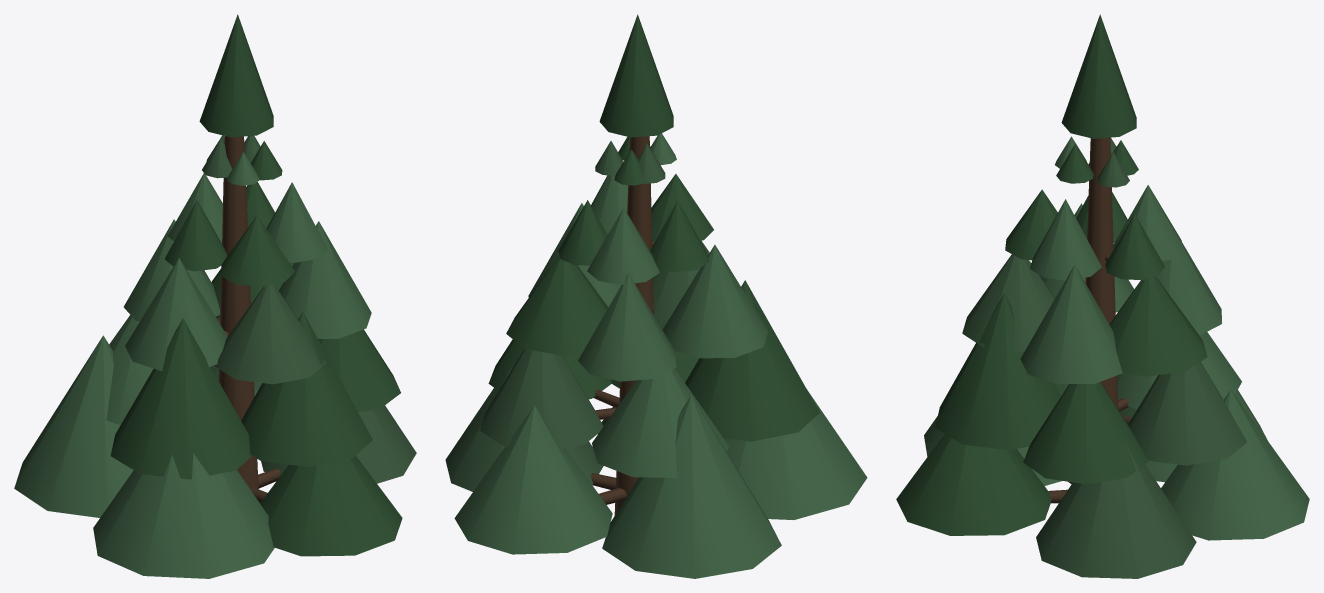
The model's file is tree_mid.glb.
The picture shows the model from 3 angles, left to right: view 1: azimuth 30°, elevation 25°; view 2: azimuth 150°, elevation 25°; view 3: azimuth 270°, elevation 25°; orthographic projection.
Bounding box in the file's own units: 6.12 × 8.95 × 6.2.
